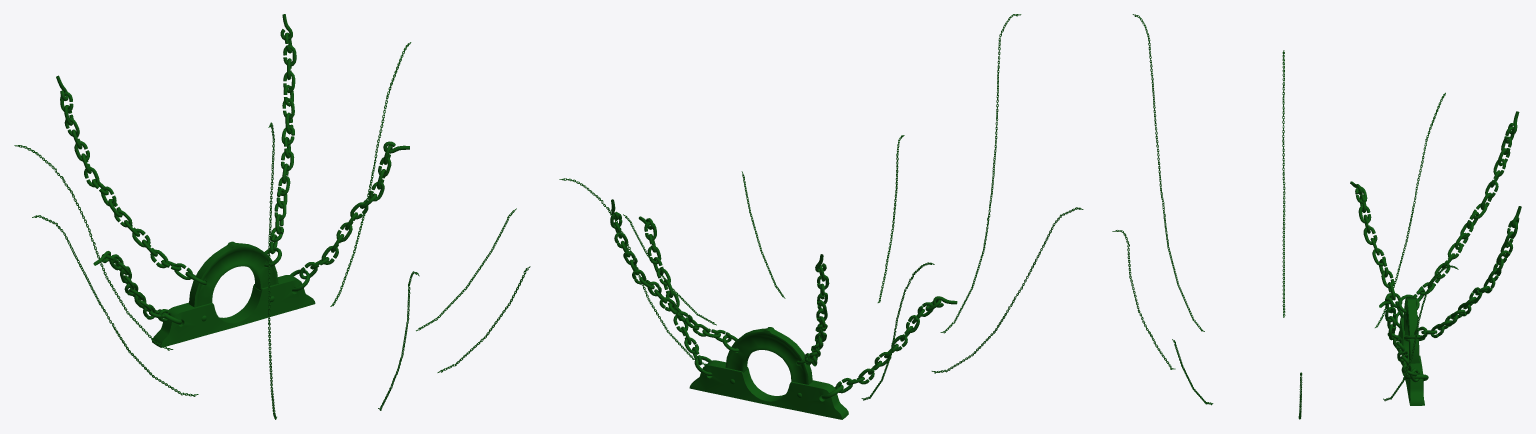
Rendered from tielian.fbx.
3 views of the same model, side by side, from view 1: azimuth 30°, elevation 25°; view 2: azimuth 150°, elevation 25°; view 3: azimuth 270°, elevation 25° (orthographic). The views are drawn at different scales.
Parts seen in each view (by area): view 1: 对象002, Line174, Line175, Line164, Line170, Line115, Line130, Line136, Line120; view 2: 对象002, Line175, Line170, Line164, Line174, Line115, Line120; view 3: 对象002, Line174, Line175, Line170, Line164, Line115, Line120, Line130, Line136, Line109.
Boxes of the visible parts, left/top/right/bottom form: 对象002: left=152, top=241, right=315, bottom=347; Line174: left=56, top=75, right=193, bottom=279; Line175: left=269, top=14, right=296, bottom=254; Line164: left=299, top=141, right=409, bottom=279; Line170: left=93, top=251, right=171, bottom=321; Line115: left=268, top=122, right=276, bottom=419; Line130: left=14, top=145, right=173, bottom=350; Line136: left=330, top=42, right=411, bottom=306; Line120: left=32, top=215, right=198, bottom=396; 对象002: left=689, top=327, right=848, bottom=419; Line175: left=610, top=199, right=731, bottom=342; Line170: left=835, top=296, right=957, bottom=393; Line164: left=638, top=216, right=701, bottom=365; Line174: left=804, top=254, right=829, bottom=366; Line115: left=940, top=14, right=1021, bottom=333; Line120: left=931, top=207, right=1083, bottom=373; 对象002: left=1395, top=294, right=1428, bottom=405; Line174: left=1412, top=111, right=1519, bottom=301; Line175: left=1414, top=206, right=1521, bottom=339; Line170: left=1350, top=181, right=1403, bottom=317; Line164: left=1379, top=293, right=1419, bottom=382; Line115: left=1132, top=14, right=1204, bottom=331; Line120: left=1282, top=50, right=1285, bottom=317; Line130: left=1375, top=92, right=1445, bottom=327; Line136: left=1383, top=265, right=1458, bottom=401; Line109: left=1112, top=230, right=1175, bottom=369.
Size of the model in its own units: 19909 by 13109 by 15927.
